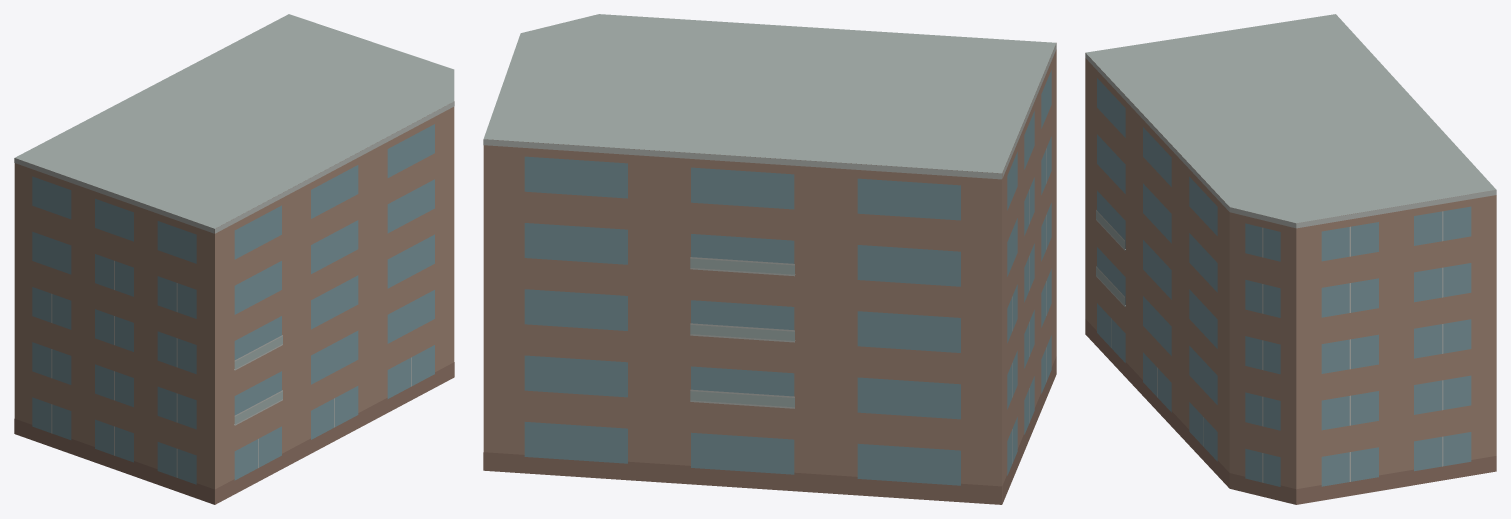
The model's file is survey-upis-32856659.glb.
The picture shows the model from 3 angles, left to right: view 1: azimuth 30°, elevation 25°; view 2: azimuth 150°, elevation 25°; view 3: azimuth 270°, elevation 25°; orthographic projection. The views are drawn at different scales.
Visible parts, largest first — view 1: survey-upis-32856659.tmp; view 2: survey-upis-32856659.tmp; view 3: survey-upis-32856659.tmp.
Part boxes in pixels (<box>): survey-upis-32856659.tmp: <box>14,14,454,504</box>; survey-upis-32856659.tmp: <box>483,14,1056,504</box>; survey-upis-32856659.tmp: <box>1085,14,1496,504</box>.
Size of the model in its own units: 21.24 by 13.32 by 17.64.
